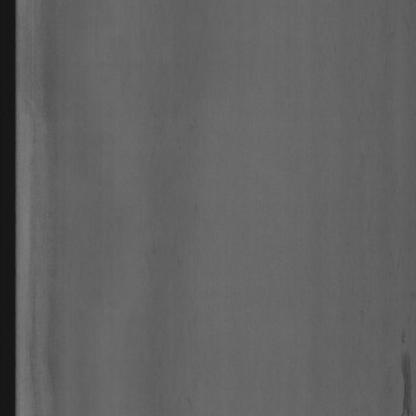water_spot: (383, 312, 416, 416)
